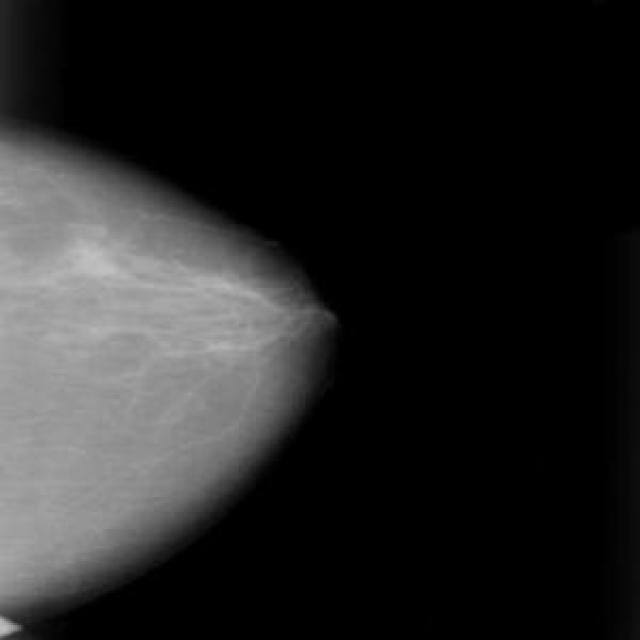tumor: (70, 235, 286, 358)
